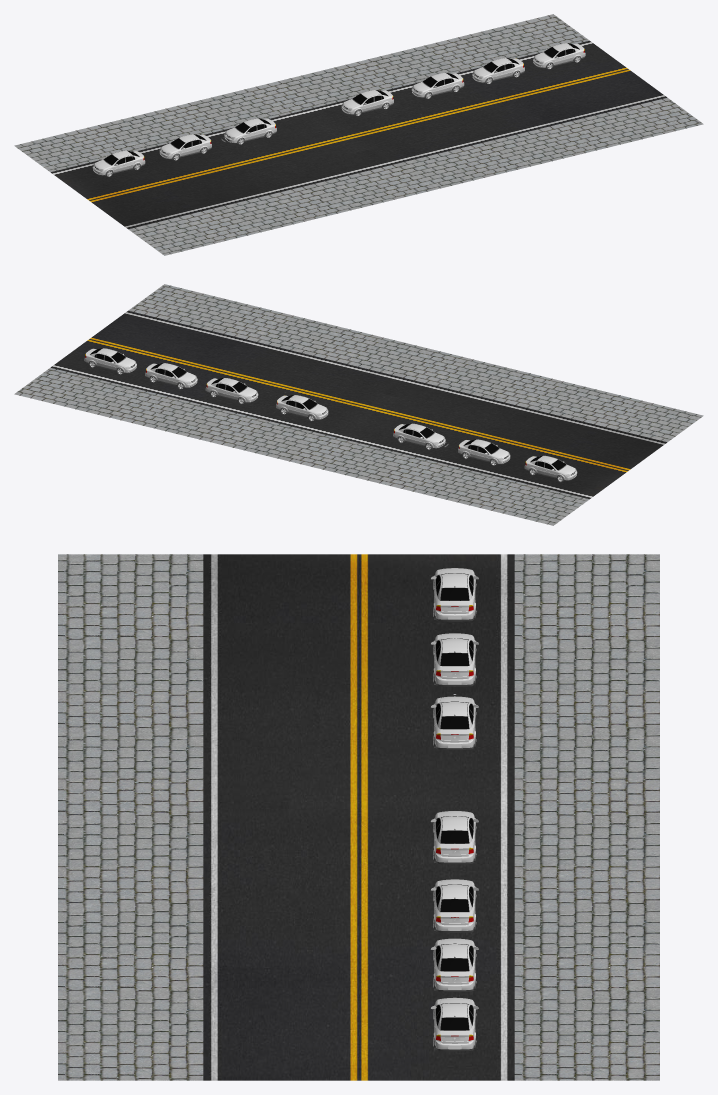
The model's file is APSimpleInLine.glb.
3 views of the same model, one above another, from view 1: azimuth 30°, elevation 25°; view 2: azimuth 150°, elevation 25°; view 3: azimuth 270°, elevation 25° (orthographic). The views are drawn at different scales.
Visible parts, largest first — view 1: Plane002 (×2), Plane001, SketchUp_003 (×7); view 2: Plane002 (×2), Plane001, SketchUp_003 (×7); view 3: Plane002 (×2), Plane001, SketchUp_003 (×7).
Part boxes in pixels (x1,y1,x2,y2): Plane002 (×2): [14, 14, 703, 255]; Plane001: [51, 40, 666, 229]; SketchUp_003 (×7): [92, 43, 584, 175]; Plane002 (×2): [14, 284, 703, 525]; Plane001: [51, 310, 666, 499]; SketchUp_003 (×7): [86, 348, 577, 480]; Plane002 (×2): [58, 554, 659, 1080]; Plane001: [203, 554, 514, 1080]; SketchUp_003 (×7): [433, 568, 475, 1041].
Size of the model in its own units: 178 by 5.38 by 86.21.
Materials: 18 (2 with a texture image).
